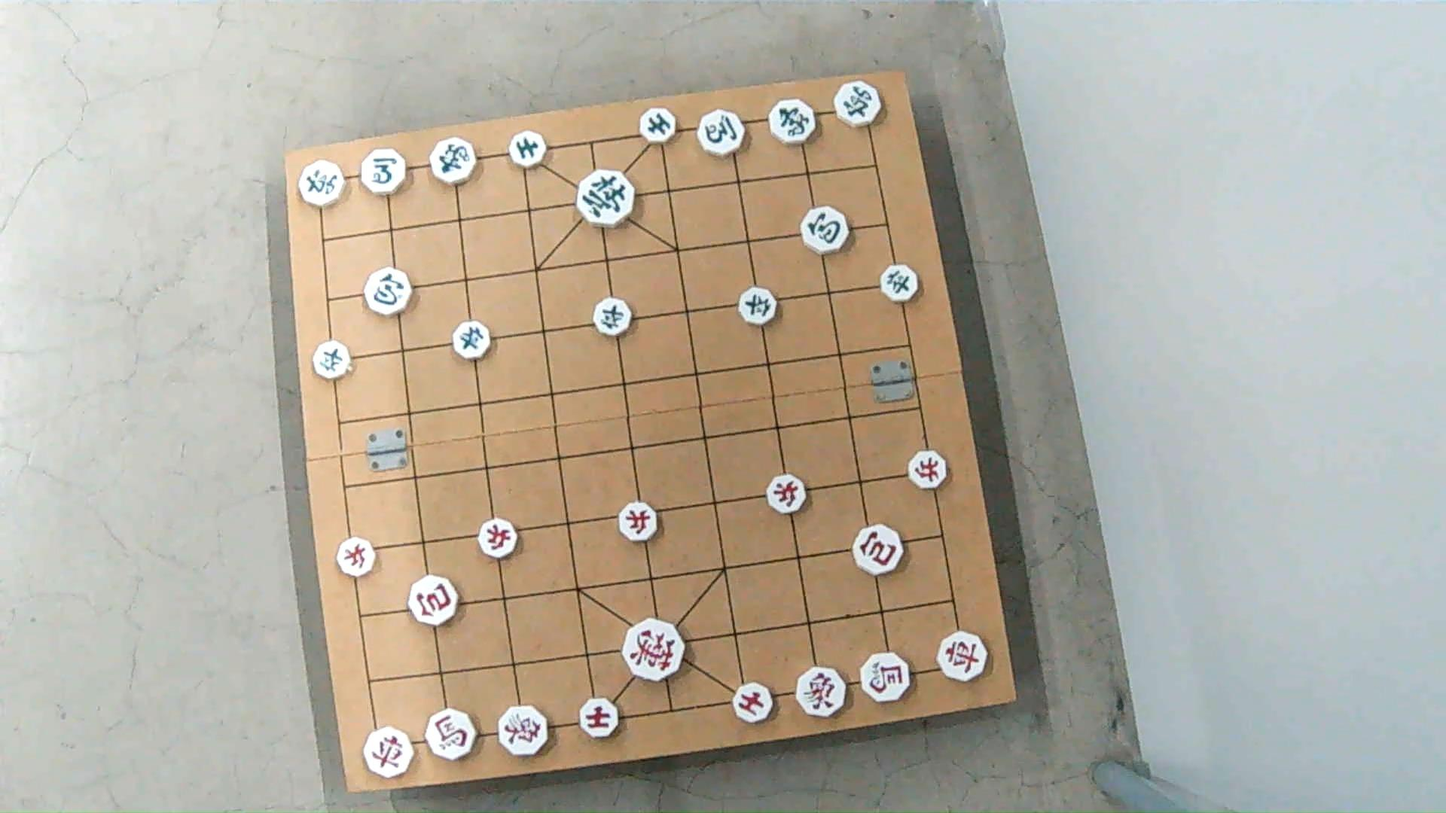cha_green: (298, 159, 346, 209), (830, 81, 881, 125)
cha_red: (362, 726, 414, 780), (936, 628, 987, 682)
jol_green: (879, 264, 920, 301), (453, 324, 493, 361), (593, 299, 633, 336), (310, 343, 352, 378), (737, 289, 777, 325)
jol_red: (769, 477, 811, 515), (477, 520, 518, 558), (907, 449, 948, 487), (619, 503, 661, 540), (338, 540, 377, 579)
ma_green: (698, 112, 746, 155), (364, 152, 411, 195)
ma_red: (859, 650, 912, 702), (423, 710, 474, 758)
po_green: (363, 269, 413, 315), (801, 208, 848, 256)
po_red: (851, 525, 903, 574), (408, 576, 458, 625)
sa_green: (511, 132, 551, 167), (638, 110, 678, 143)
sa_red: (733, 681, 773, 723), (580, 700, 622, 738)
sang_green: (771, 100, 816, 146), (431, 139, 480, 181)
sang_red: (793, 665, 847, 715), (498, 707, 552, 755)
wang_green: (575, 169, 634, 224)
wang_red: (624, 623, 686, 682)
